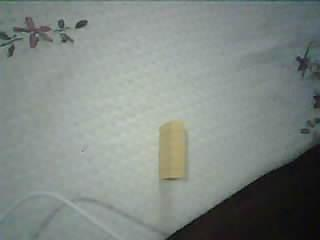lego: (157, 119, 187, 181)
